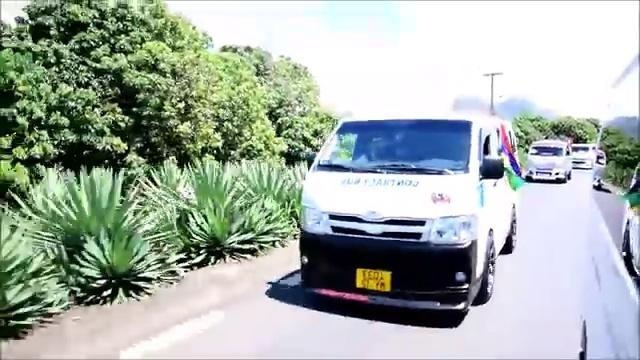van: (294, 114, 525, 325)
